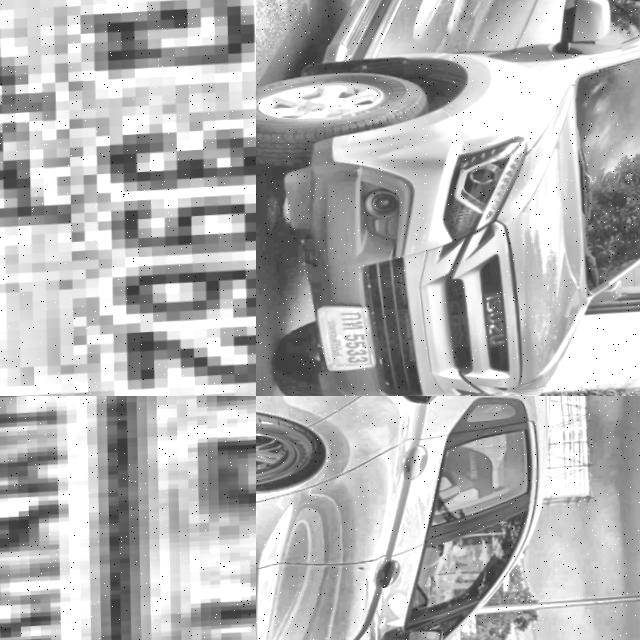license-plate: (0, 0, 256, 396), (0, 396, 256, 640), (310, 303, 375, 377)
